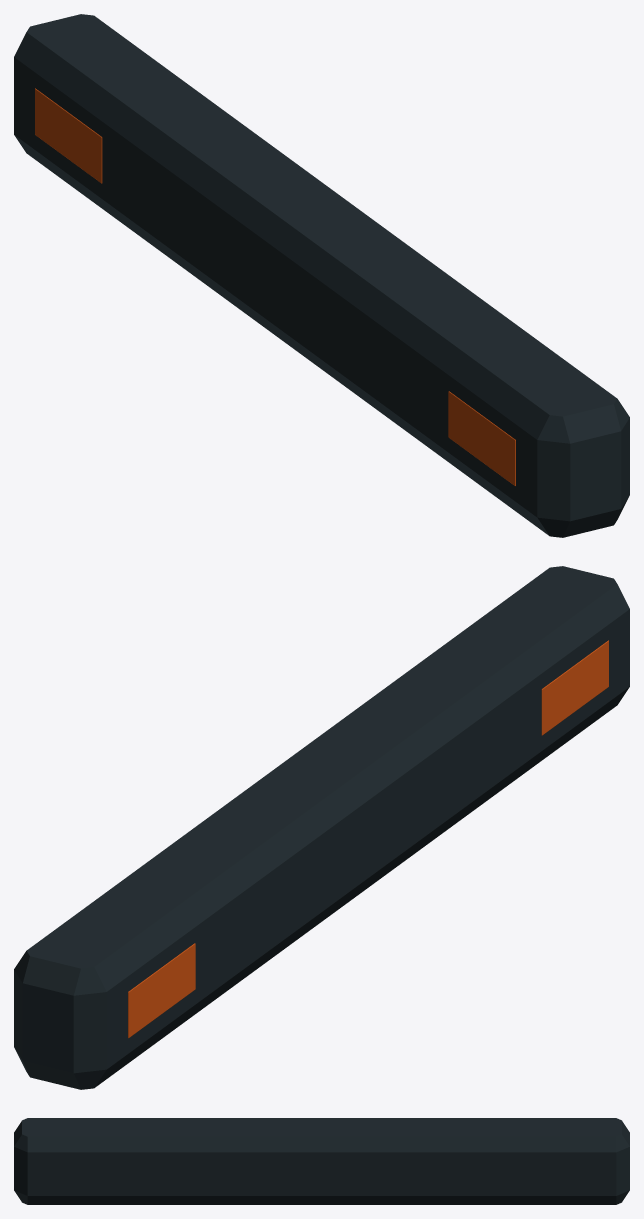
The model's file is rear_bumper.dae.
3 views of the same model, one above another, from view 1: azimuth 30°, elevation 25°; view 2: azimuth 150°, elevation 25°; view 3: azimuth 270°, elevation 25° (orthographic). The views are drawn at different scales.
Parts seen in each view (by area): view 1: part; view 2: part; view 3: part.
Boxes of the visible parts, <box> form: part: <box>14,14,629,537</box>; part: <box>14,566,629,1089</box>; part: <box>14,1118,629,1204</box>.
Bounding box in the file's own units: 0.0444 × 0.45 × 0.055.
